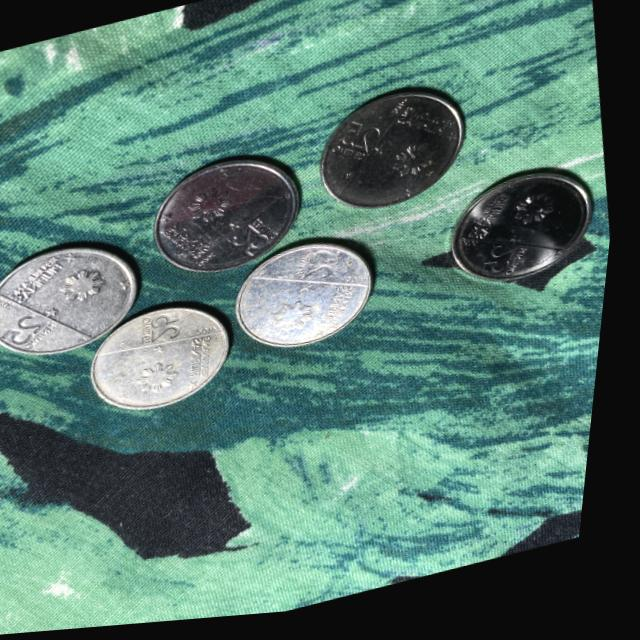25Cent_New_Front: (298, 250, 349, 292), (339, 119, 386, 164), (6, 311, 54, 350), (232, 225, 279, 264), (483, 244, 529, 283), (153, 311, 195, 347)
